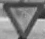Give way: (1, 1, 41, 37)
